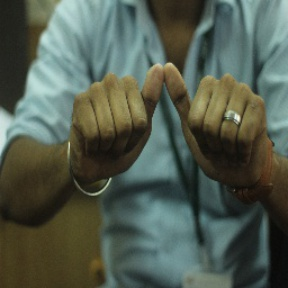A: (93, 57, 242, 174)
